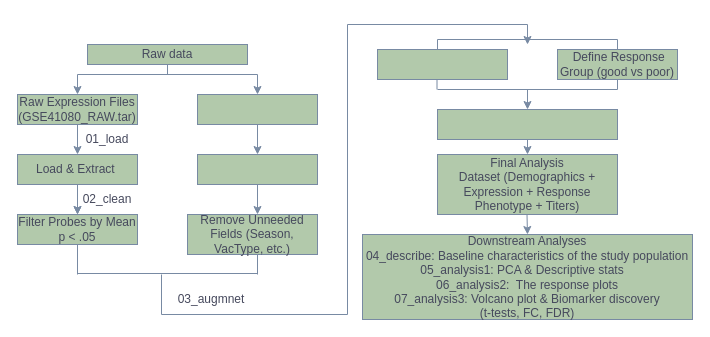
Some shapes in this 710 by 337 pixel diagram are drawn without their labels. The box of each missing label's shape, as (x1, y1, x2, y2) in pixels:
Load Metadata Clean Variables: (196, 154, 318, 184)
Merge Expression + Metadata by Sample ID (file/GSM): (436, 108, 618, 140)
Pivot Expression Wide (samples x probes): (376, 48, 508, 80)
Raw Metadata ( msb201315- s2.csv): (196, 94, 318, 124)
